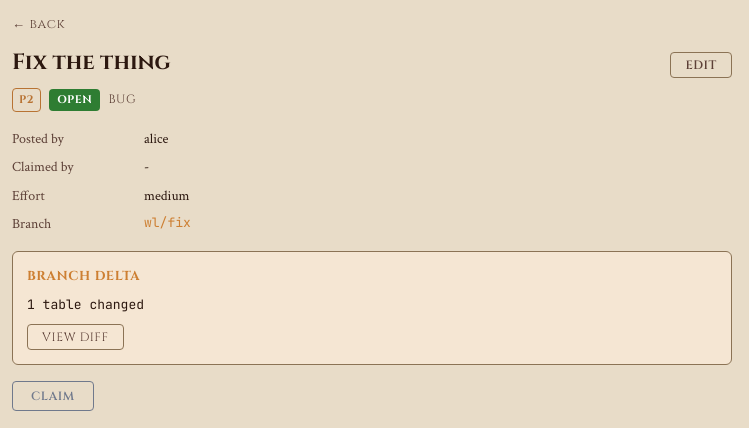
Test case: DetailView › view diff button loads diff content
Click the button "View diff": (75, 337) [27,324,124,350]
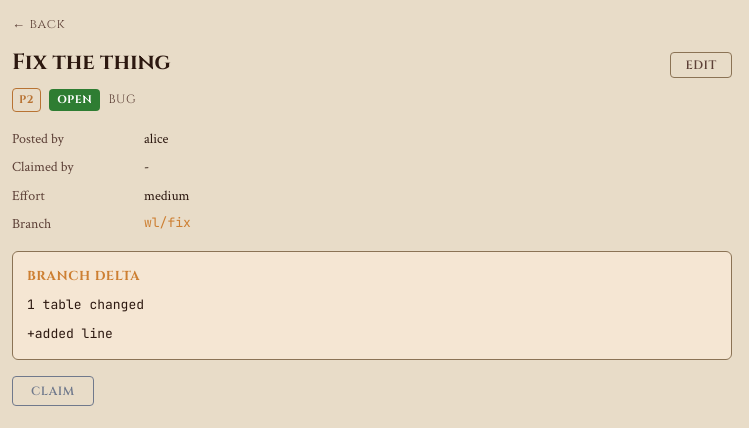
Result: the text "+added line" is shown at [27,325,113,342]
